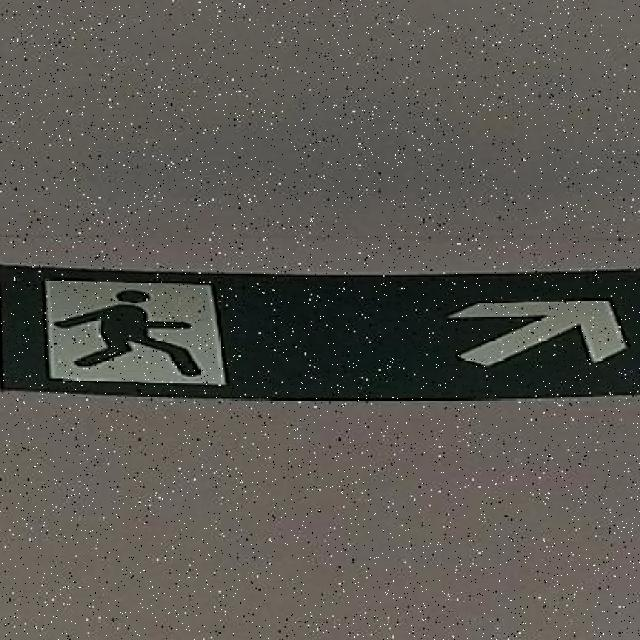emergency_exit: (1, 263, 639, 401)
